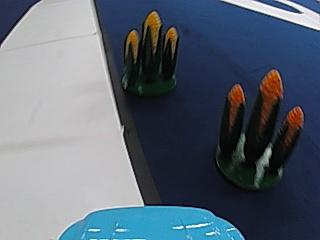corn: (212, 62, 306, 190), (117, 5, 184, 95)
